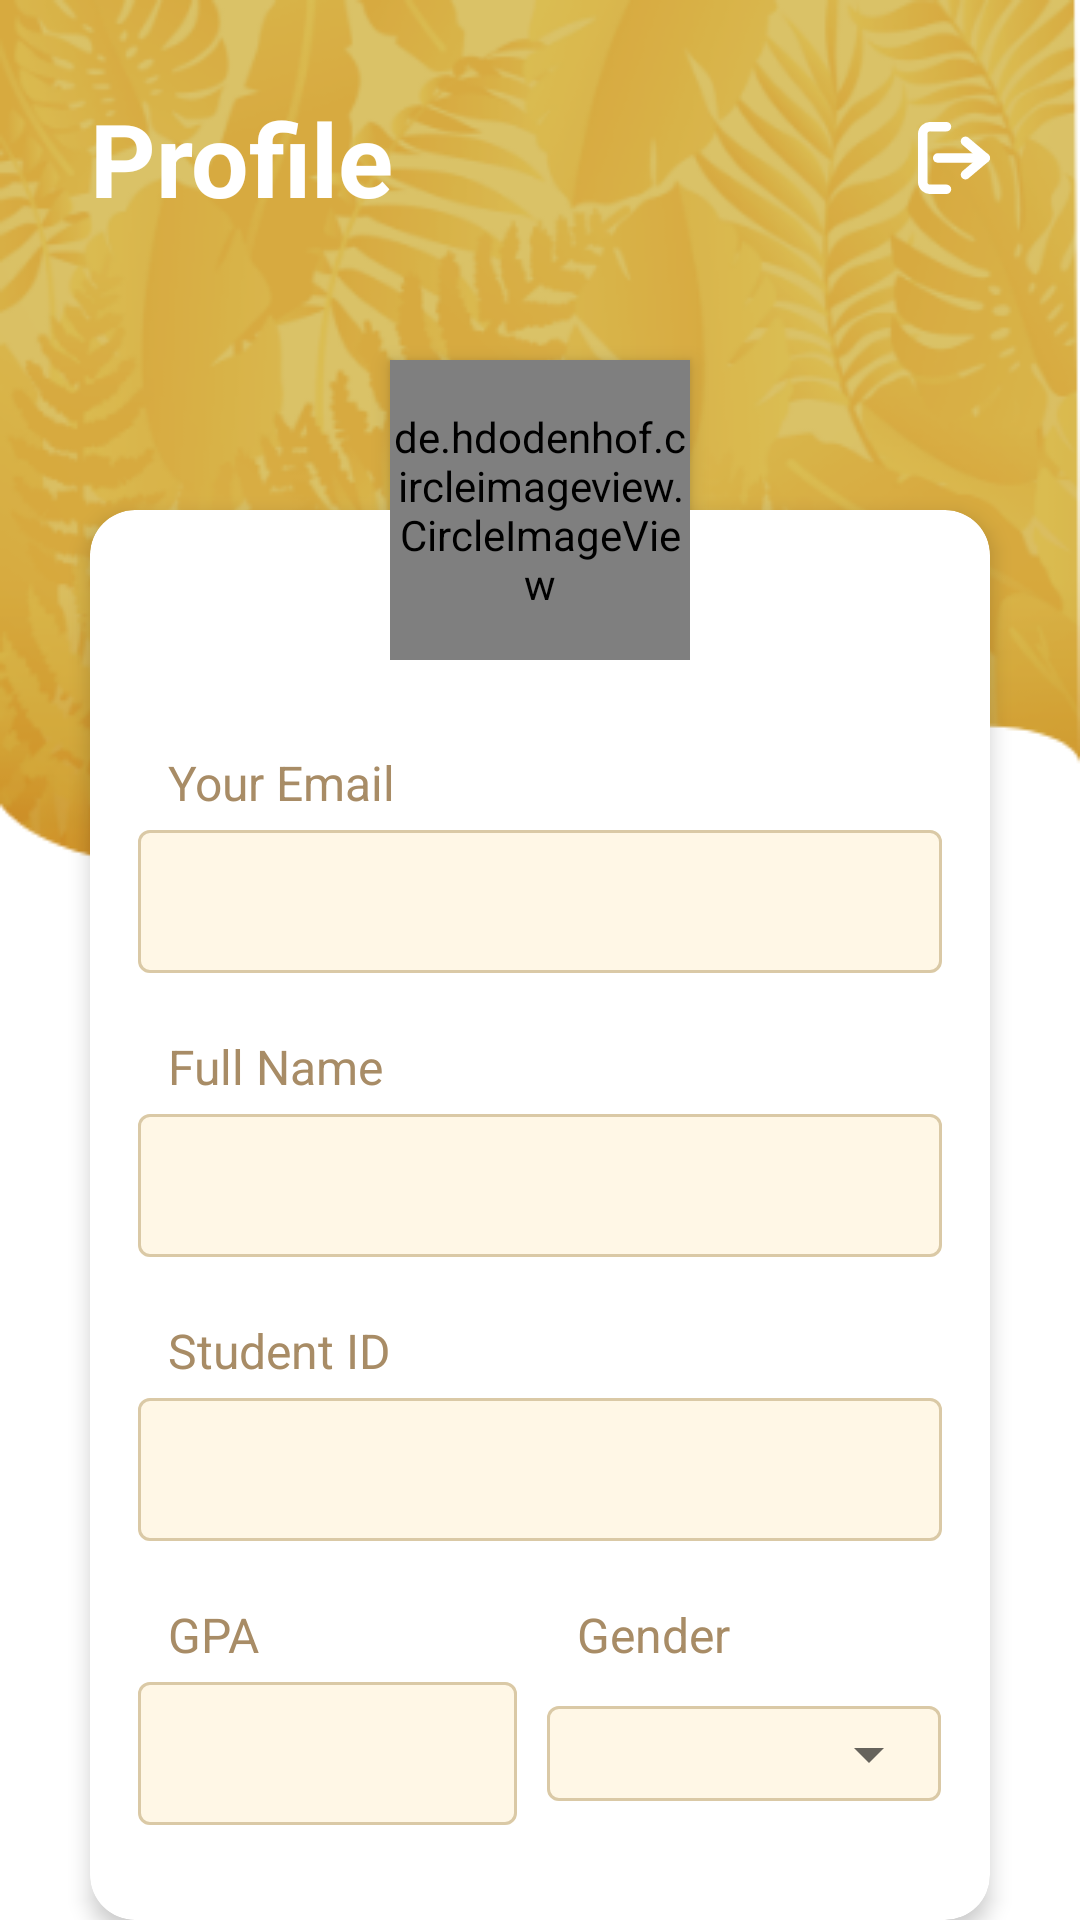

Locate icon controls on the screen. Image size 1080 x 1920, boxes as (x1, y1, x2, y2).
log out: (918, 122, 990, 194)
